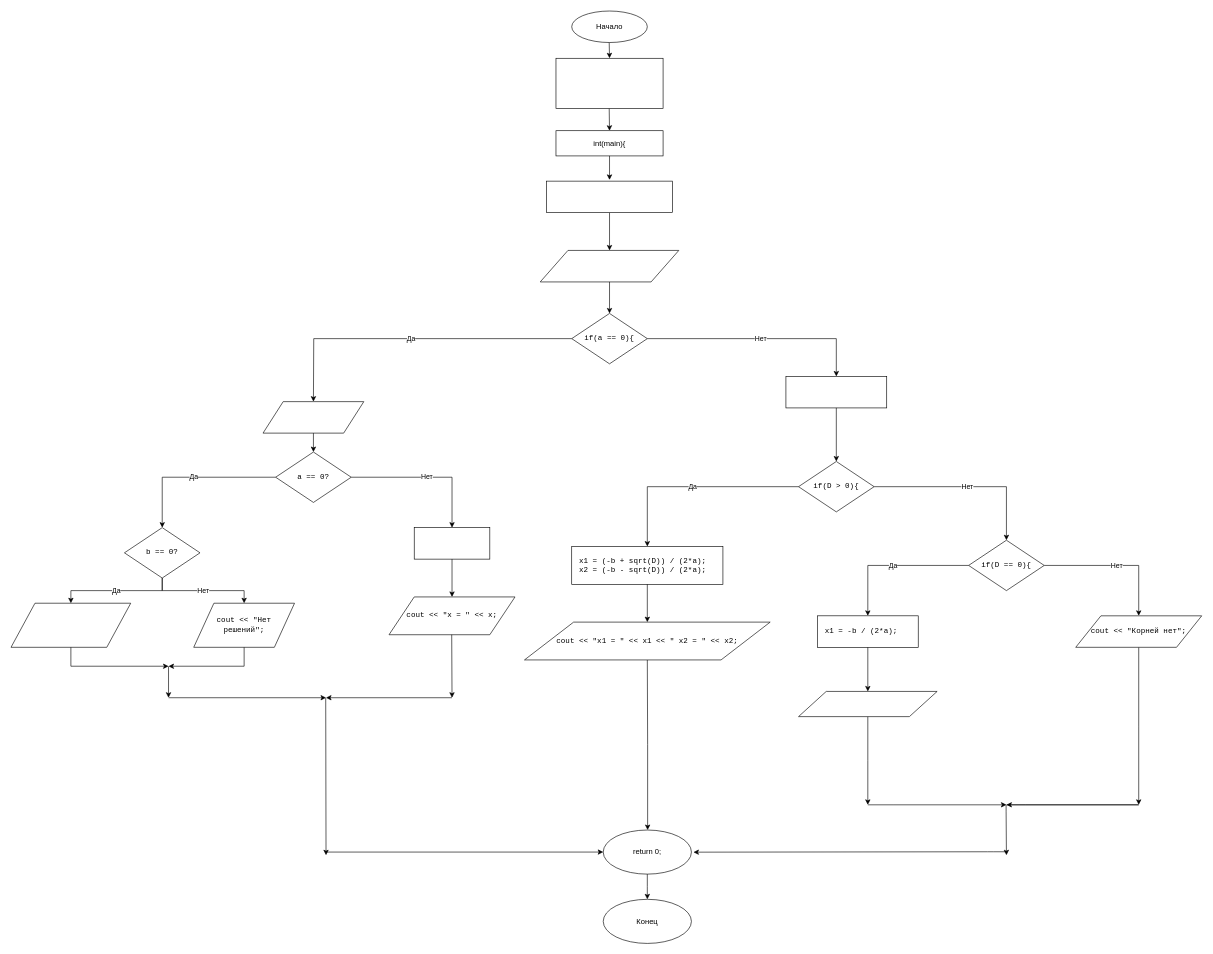
This 1213x954 diagram has some shape labels left out. Here are the shapes that lost their labels. From the top down, the centre of each, then its label:
point 609,83: # include <iostream> # include <cmath> #include <clocale> using namespace std ;
point 609,196: setlocale(LC_ALL, ".65001"); double a , b , c , x, D , x1 , x2 ;
point 609,266: cin >> a >> b >> c;
point 836,392: D = b*b - 4*a*c;
point 313,417: cin >> a >> b;
point 452,543: x = -b / a;
point 70,625: cout << "Бесконечно много решений";
point 867,704: cout << "x = " << x1;
